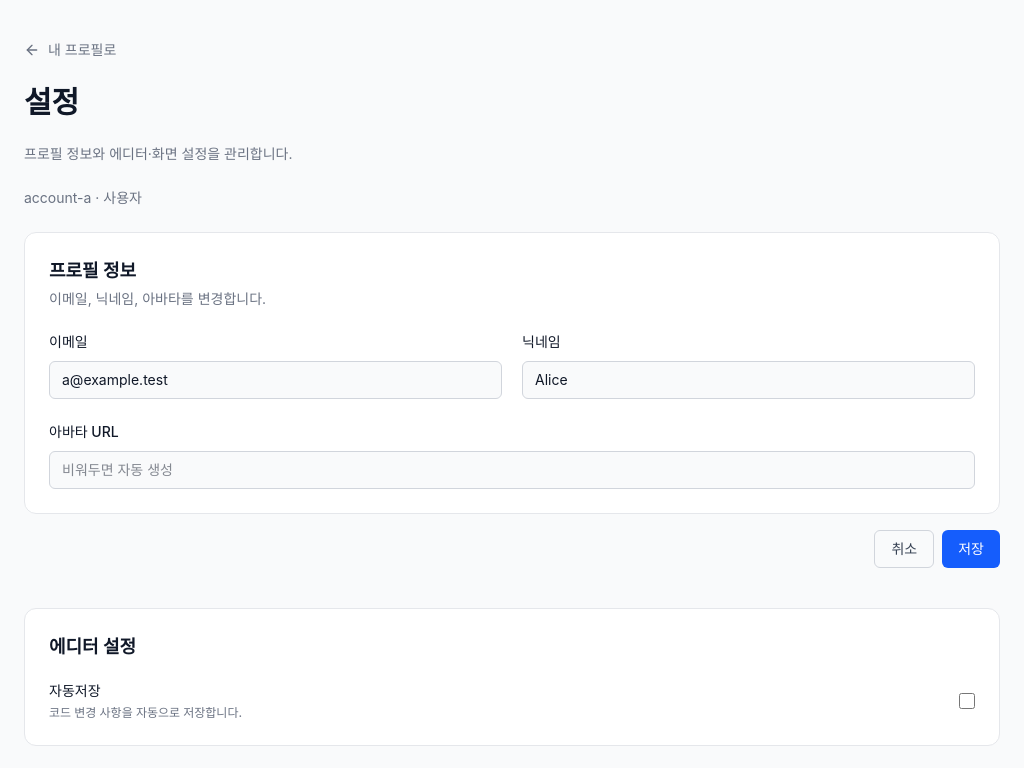
Test: settings profile editor › keeps the draft on save failure and allows retry
Replace the text in the field labelled "닉네임" with "New name" at (748, 380), box [522,361,975,399]
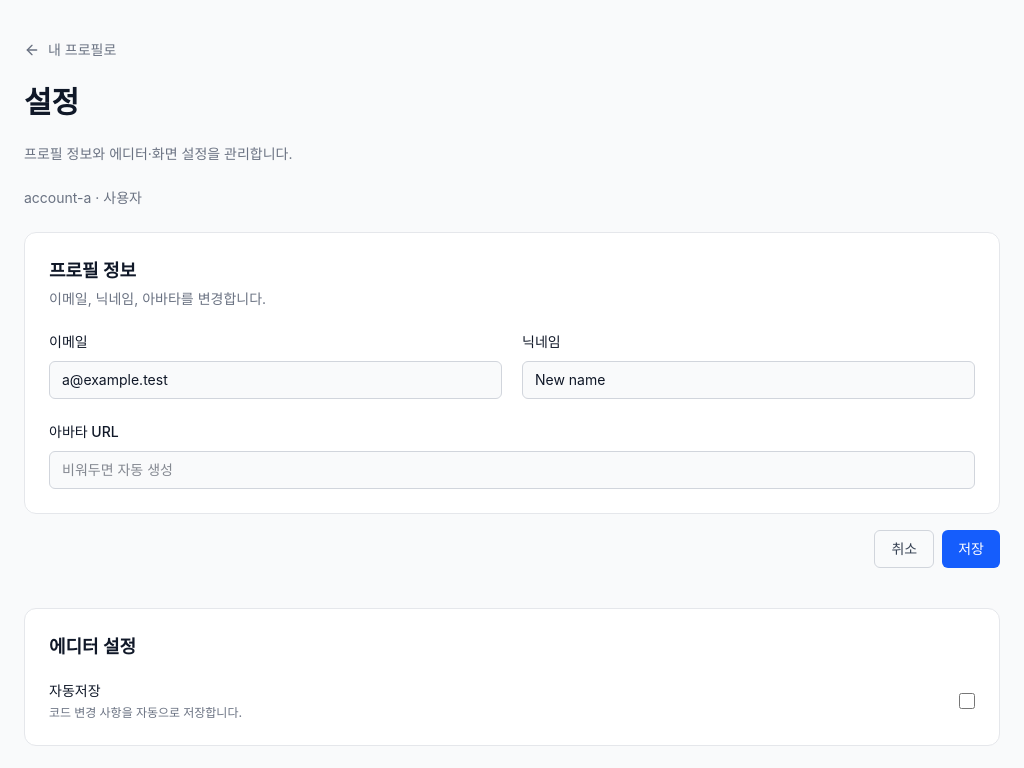
Click the button "저장" at (971, 549), box [942,530,1000,568]
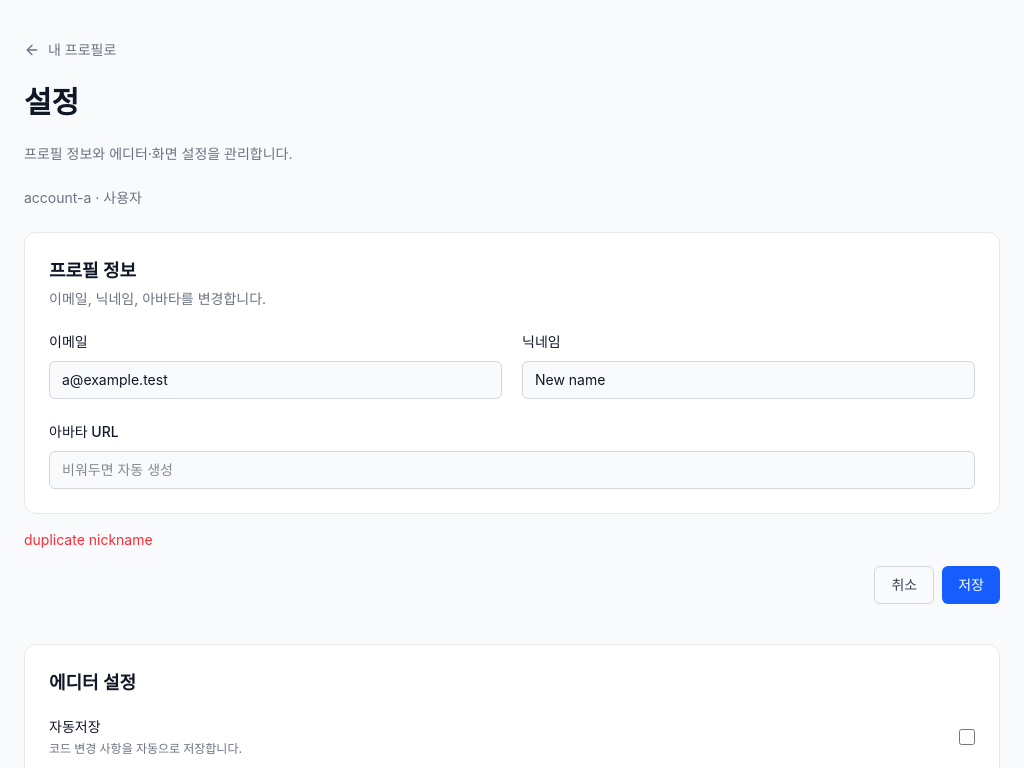
Expected: the button "저장" is enabled, [942,566,1000,604]
Result: the message reads "duplicate nickname" at [24,531,153,548]
